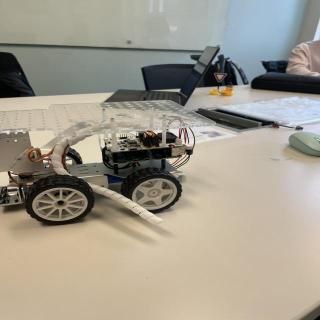vehicle: (7, 110, 201, 231)
